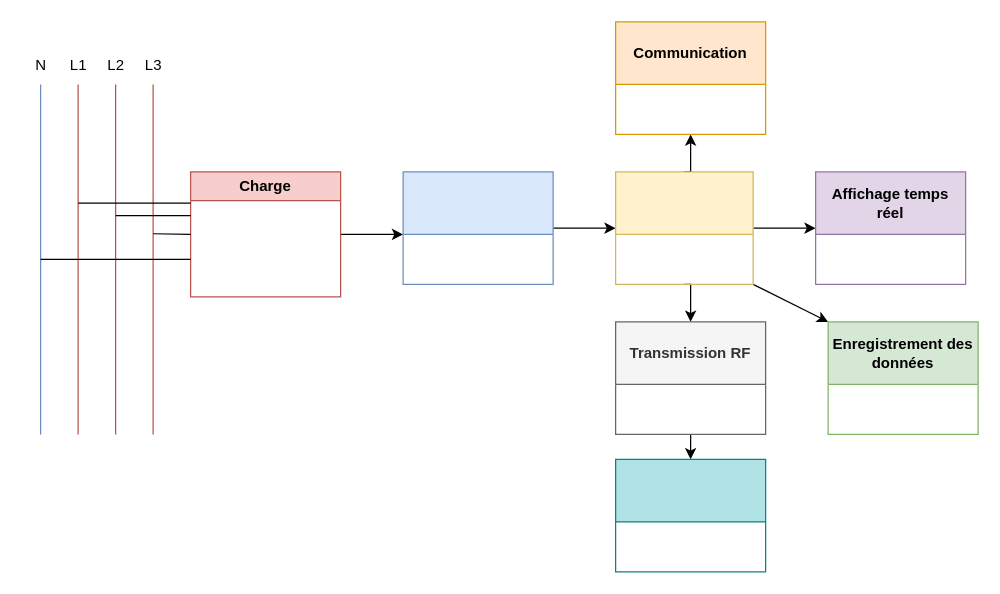
The diagram is 1000 pixels wide and 594 high, and some of its shapes have lost their labels. Each missing label, with the box of its shape:
Acquisition courant/tension: (402, 171, 553, 284)
Affichage à distance: (614, 458, 766, 572)
Traitement numérique: (614, 171, 753, 284)
